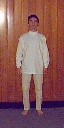person: (14, 14, 52, 114)
